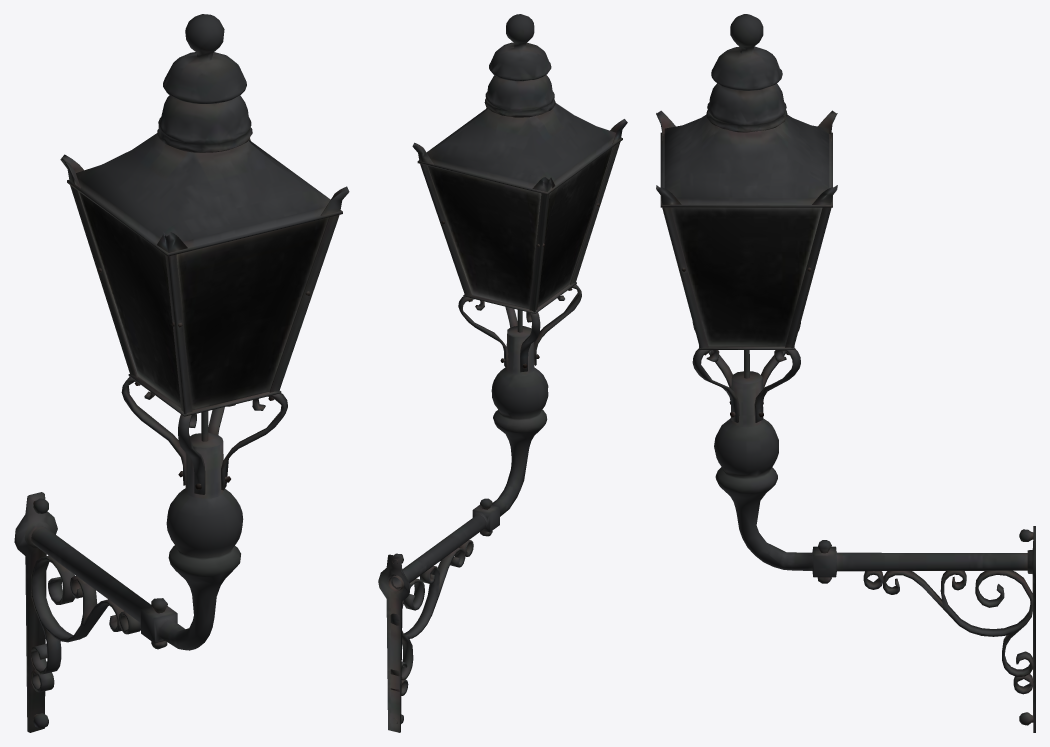
File: street_lamp_02.gltf
The picture shows the model from 3 angles, left to right: view 1: azimuth 30°, elevation 25°; view 2: azimuth 150°, elevation 25°; view 3: azimuth 270°, elevation 25°; orthographic projection. The views are drawn at different scales.
Visible parts, largest first — view 1: street_lamp_02; view 2: street_lamp_02; view 3: street_lamp_02.
Boxes of the visible parts, left/top/right/bottom form: street_lamp_02: left=14, top=14, right=349, bottom=732; street_lamp_02: left=378, top=14, right=627, bottom=732; street_lamp_02: left=656, top=14, right=1035, bottom=732.
Size of the model in its own units: 0.3859 by 1.67 by 0.8064.
Materials: 3 (3 with a texture image).
